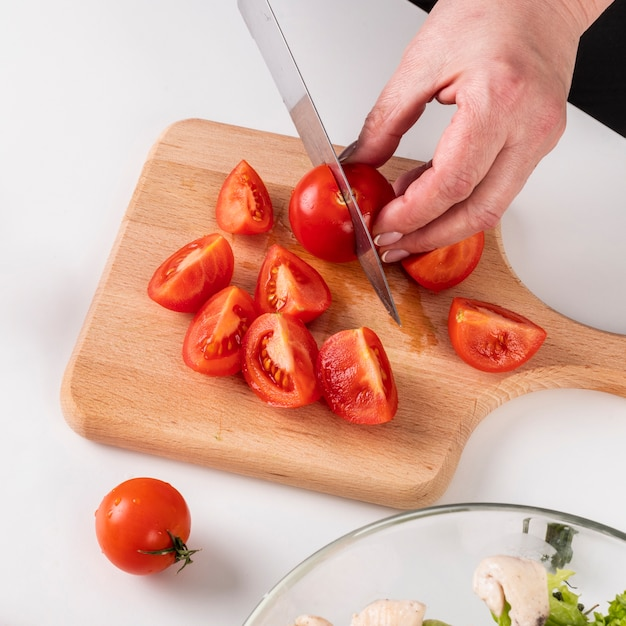knife: (233, 0, 403, 328)
